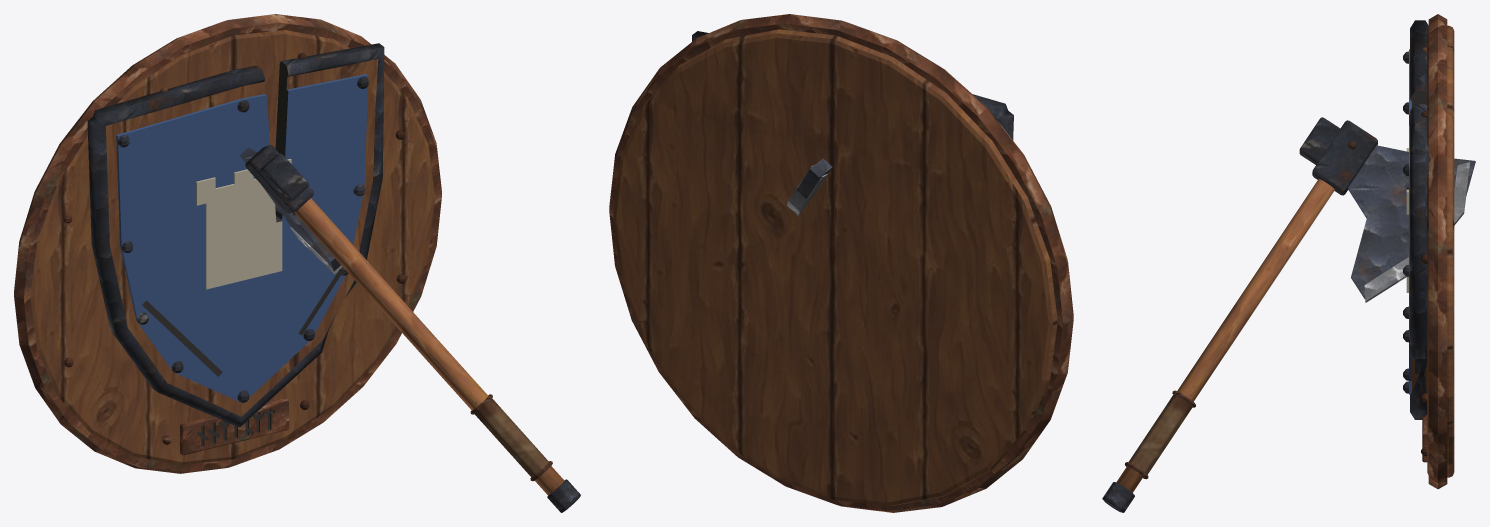
The model's file is hs_split_shield_trophy.glb.
3 renders of one model, left to right at view 1: azimuth 30°, elevation 25°; view 2: azimuth 150°, elevation 25°; view 3: azimuth 270°, elevation 25°, orthographic. The views are drawn at different scales.
Parts seen in each view (by area): view 1: model; view 2: model; view 3: model.
Part boxes in pixels (x1,y1,x2,y2): model: [14, 14, 580, 512]; model: [609, 14, 1073, 512]; model: [1102, 14, 1475, 512].
Size of the model in its own units: 0.88 by 0.88 by 0.6907.
Materials: 11 (8 with a texture image).
